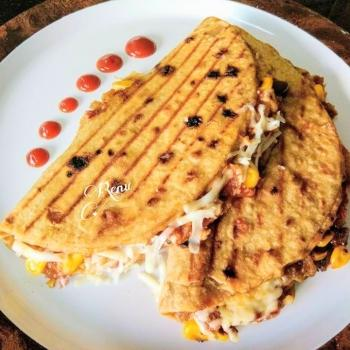chapati: (0, 17, 350, 341), (0, 18, 258, 255)
